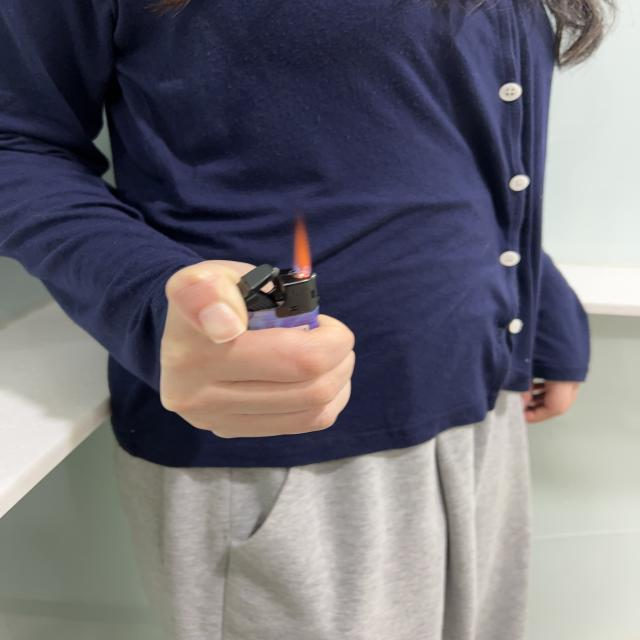fire: (294, 215, 313, 277)
